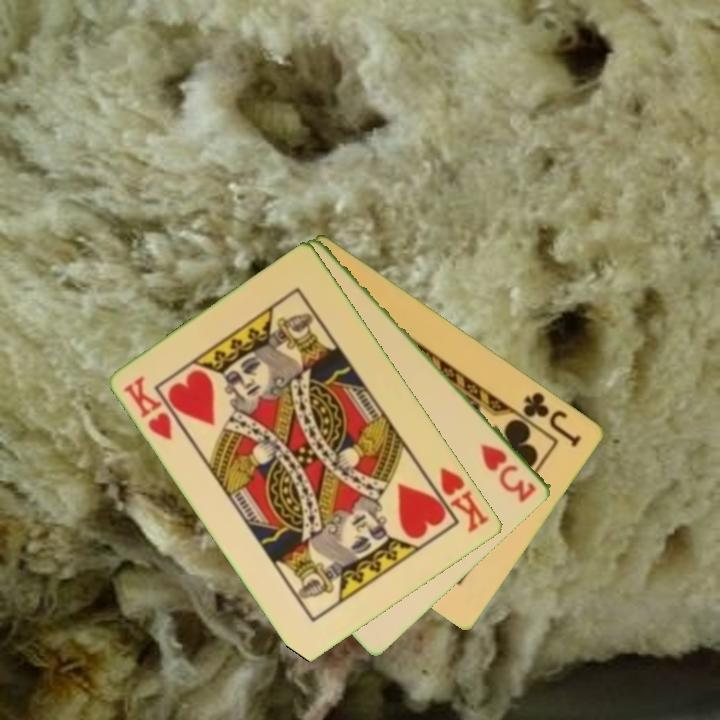3h: (477, 441, 541, 506)
Jc: (519, 388, 585, 450)
Kh: (423, 463, 493, 536), (120, 372, 176, 444)
